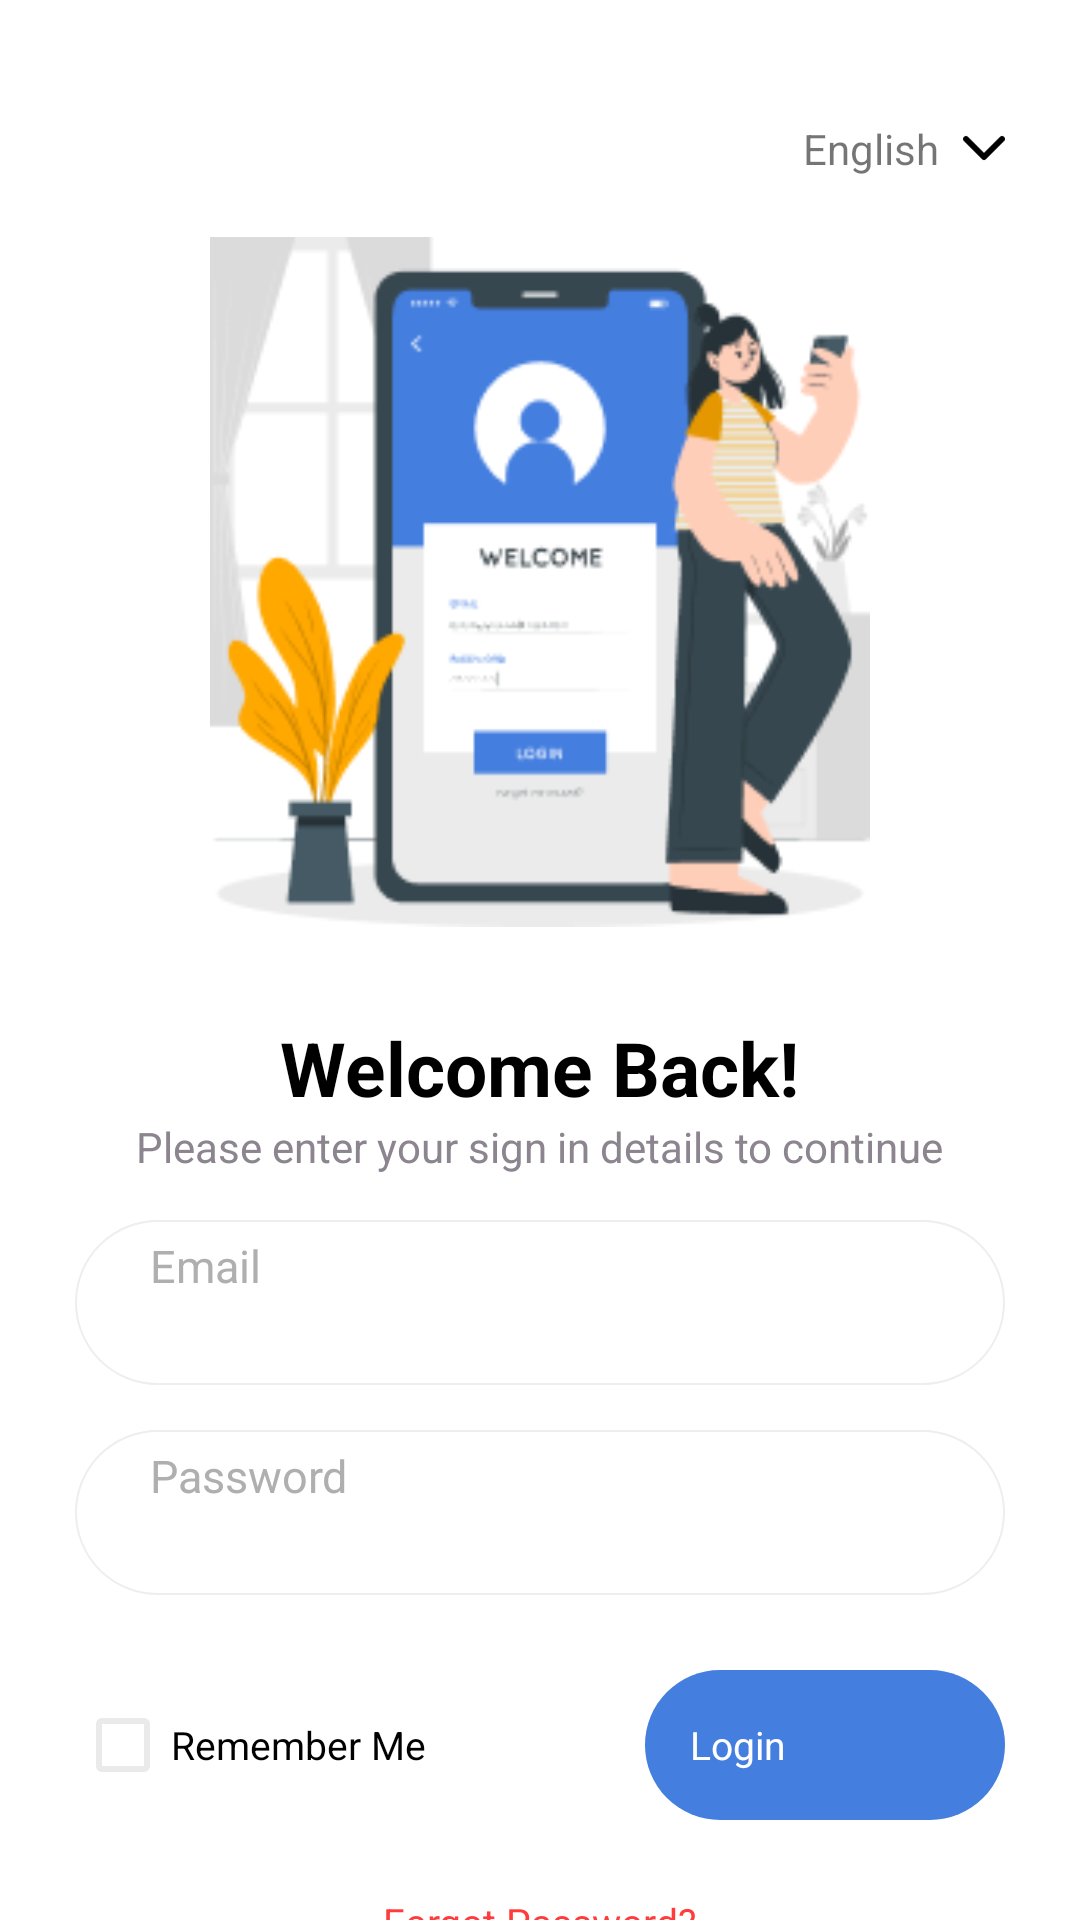

Where to tap for icons on this 1080*1920 app screen, as (x=x, y=y):
downarrow: (x=984, y=148)
